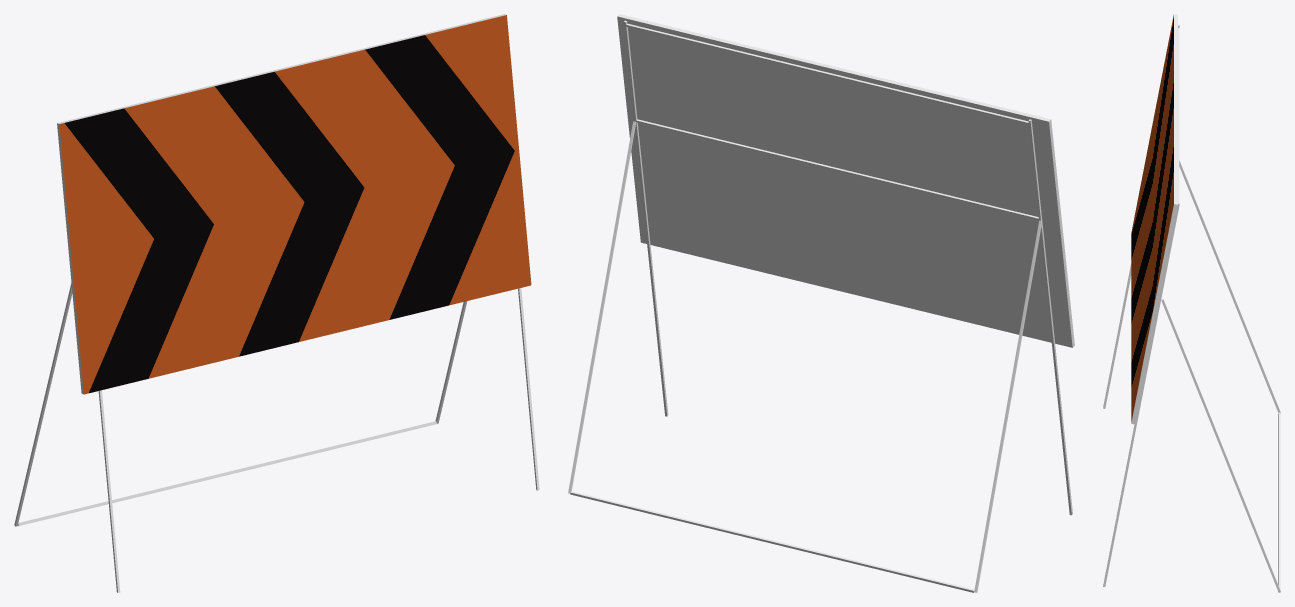
Rendered from 右侧行车.glb.
3 views of the same model, side by side, from view 1: azimuth 30°, elevation 25°; view 2: azimuth 150°, elevation 25°; view 3: azimuth 270°, elevation 25° (orthographic). The views are drawn at different scales.
Visible parts, largest first — view 1: 立方体.2-材质.6, 立方体.2-材质_5, 立方体.18, 立方体.19, 立方体.9, 立方体.8; view 2: 立方体.2-材质_5, 立方体.18, 立方体.11, 立方体.10, 立方体.8, 立方体.9, 立方体.19, 立方体.12; view 3: 立方体.2-材质.6, 立方体.2-材质_5, 立方体.8, 立方体.12, 立方体.19, 立方体.18, 立方体.9, 立方体.10.
Part boxes in pixels (<box>): 立方体.2-材质.6: <box>59,15,531,394</box>; 立方体.2-材质_5: <box>57,14,506,394</box>; 立方体.18: <box>18,421,436,525</box>; 立方体.19: <box>14,283,72,526</box>; 立方体.9: <box>98,390,120,592</box>; 立方体.8: <box>518,288,539,490</box>; 立方体.2-材质_5: <box>617,14,1074,347</box>; 立方体.18: <box>570,491,974,592</box>; 立方体.11: <box>636,119,1039,220</box>; 立方体.10: <box>626,23,1028,124</box>; 立方体.8: <box>624,20,668,416</box>; 立方体.9: <box>1028,119,1072,515</box>; 立方体.19: <box>974,220,1042,592</box>; 立方体.12: <box>568,121,636,493</box>; 立方体.2-材质.6: <box>1131,15,1173,421</box>; 立方体.2-材质_5: <box>1131,14,1177,424</box>; 立方体.8: <box>1103,203,1179,586</box>; 立方体.12: <box>1161,299,1280,592</box>; 立方体.19: <box>1179,160,1280,413</box>; 立方体.18: <box>1278,412,1280,591</box>; 立方体.9: <box>1103,24,1179,408</box>; 立方体.10: <box>1178,28,1179,202</box>.
Size of the model in its own units: 14.09 by 13.57 by 5.57.
3 materials, 1 textured.
